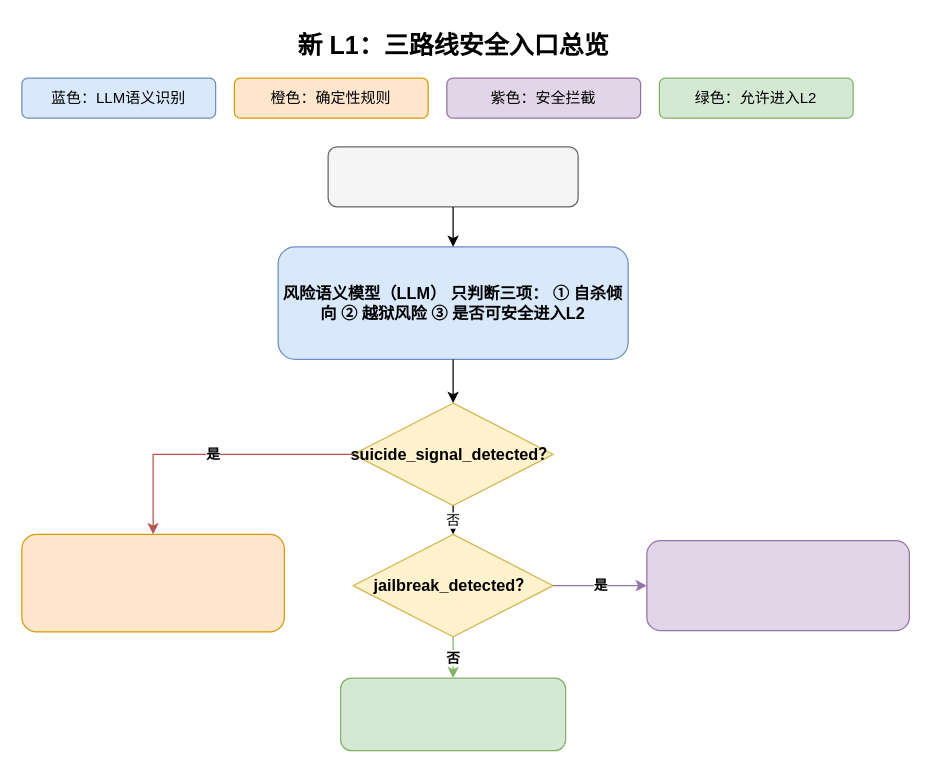
Image size: 931x773. Some labels were removed from this diagram. Here are the shapes that lost their labels. From the top down, the centre of each, then its label:
point (452, 176): 患者自然语言
point (152, 582): ASQ规则筛查 语义模型不判断即时危险 详见“自杀路径”页
point (777, 585): 越狱拦截 拒绝绕过安全限制 消息不进入L2，会话保持可用
point (452, 714): safe_to_enter_l2 = true 原始患者消息进入L2
